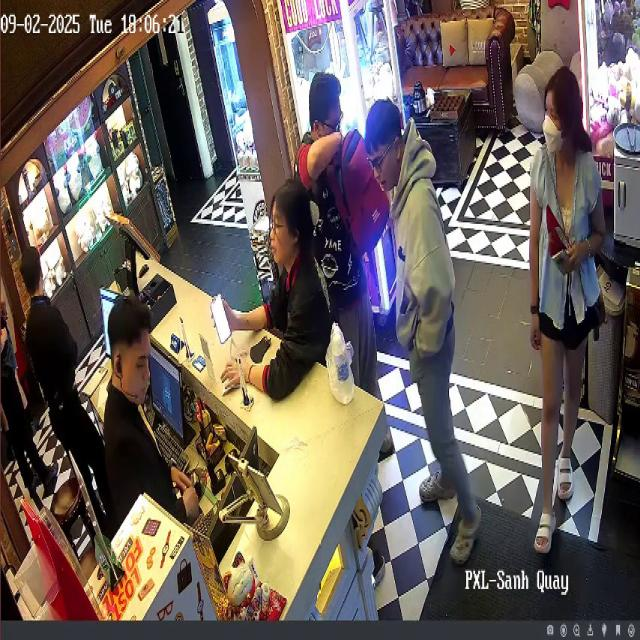khach: (362, 83, 487, 581), (528, 49, 607, 579), (211, 153, 346, 450), (294, 68, 392, 412)
nhan vien: (93, 279, 207, 573), (22, 237, 107, 511)
